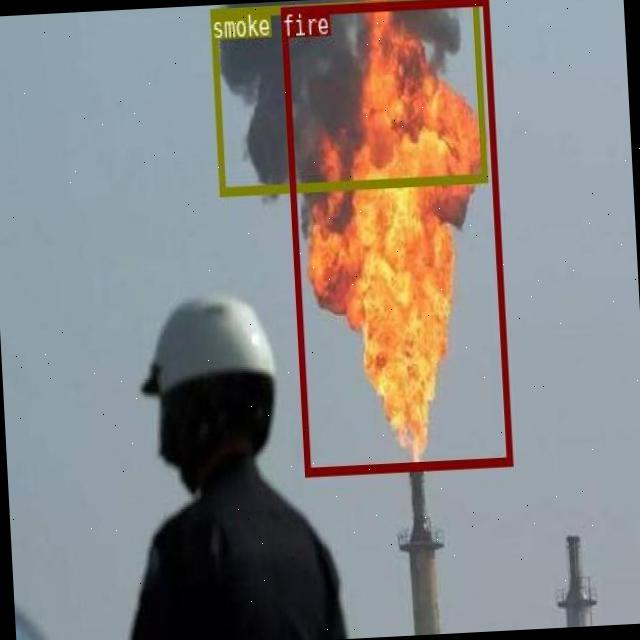fire: (279, 0, 510, 475)
smoke: (209, 0, 486, 194)
